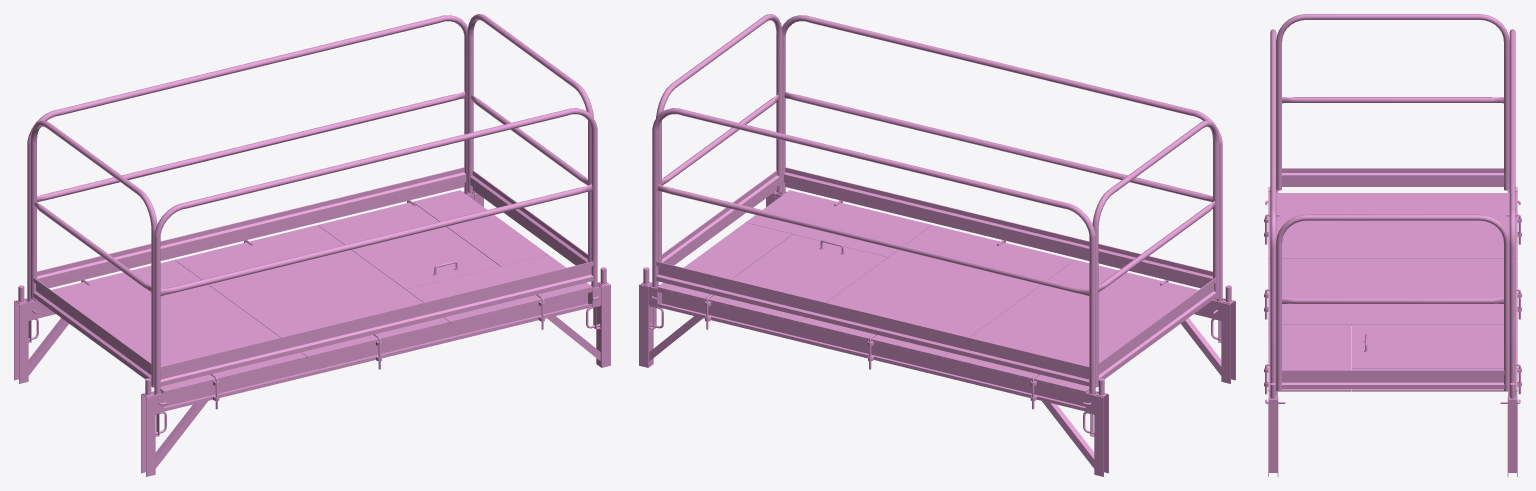
The model's file is SM_RollingScaffoldsTop.fbx.
The picture shows the model from 3 angles, left to right: view 1: azimuth 30°, elevation 25°; view 2: azimuth 150°, elevation 25°; view 3: azimuth 270°, elevation 25°; orthographic projection. The views are drawn at different scales.
Parts seen in each view (by area): view 1: RollingScaffoldsTop; view 2: RollingScaffoldsTop; view 3: RollingScaffoldsTop.
Boxes of the visible parts, x1,y1,x2,y2 form: RollingScaffoldsTop: [14, 14, 610, 476]; RollingScaffoldsTop: [639, 14, 1235, 476]; RollingScaffoldsTop: [1264, 14, 1521, 476].
Size of the model in its own units: 300 by 167 by 153.
